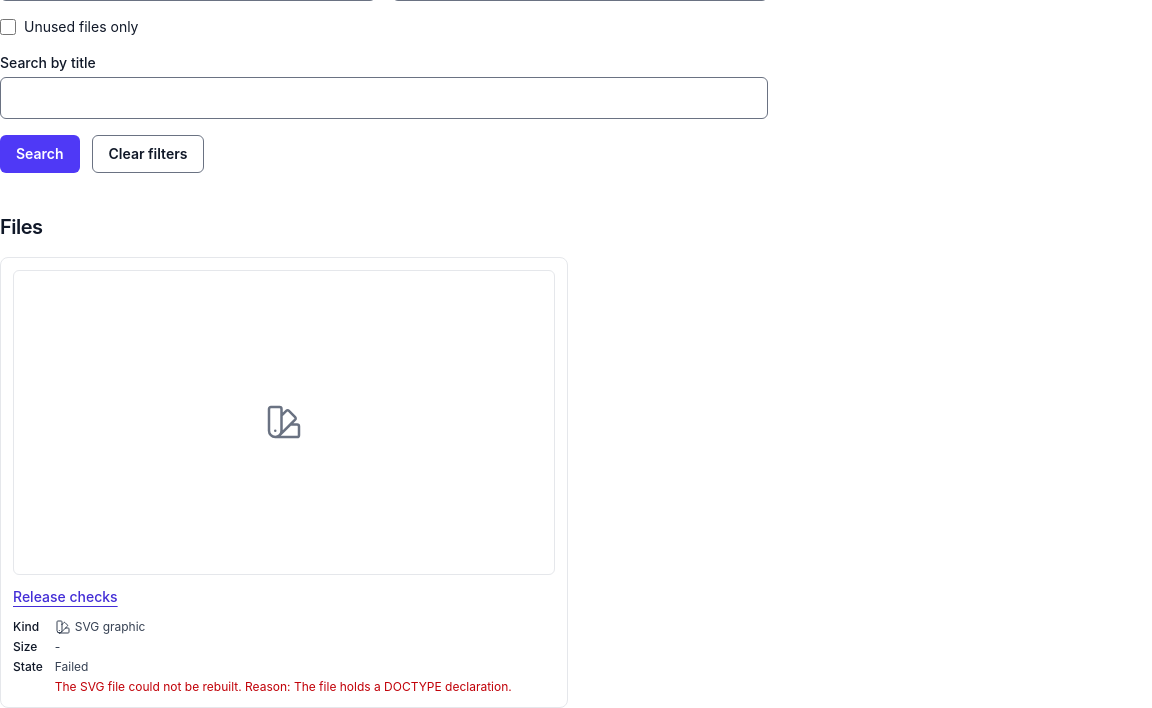
it: Add to draft › a failed asset cannot be added
(page scrolled)
Step 1. Click the button "Release checks" → point(65, 597), box [13,587,118,607]
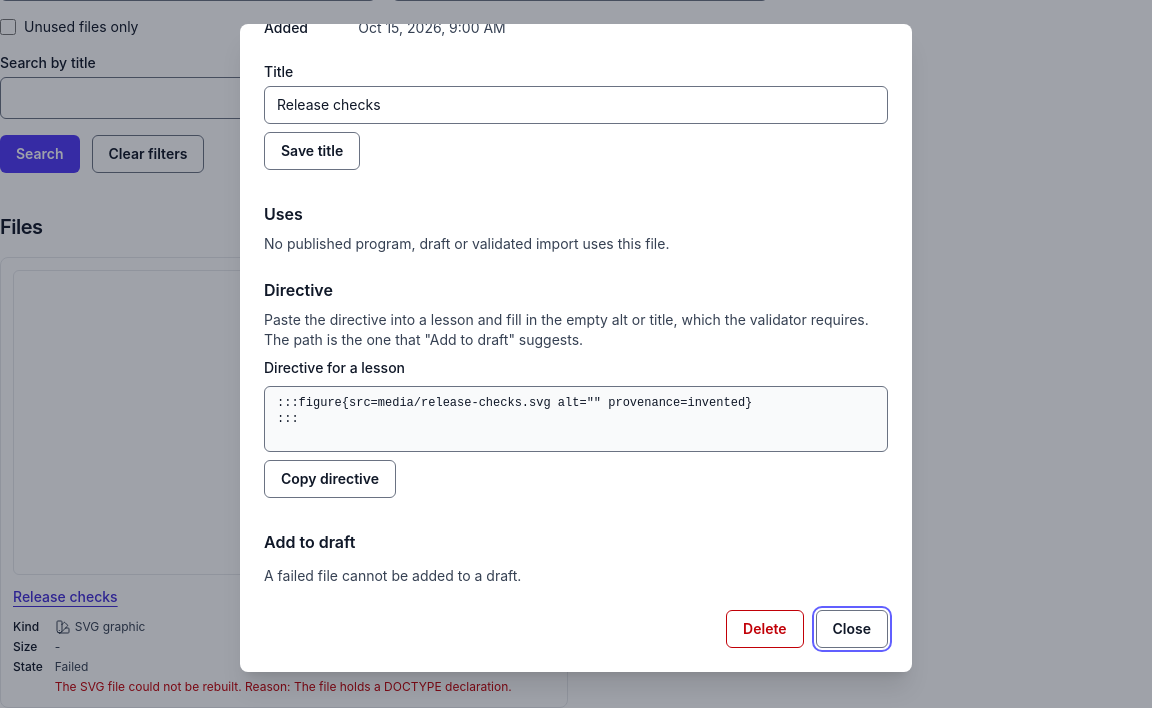
Expected: the text "A failed file cannot be added to a draft." is shown, [264,567,521,584]
